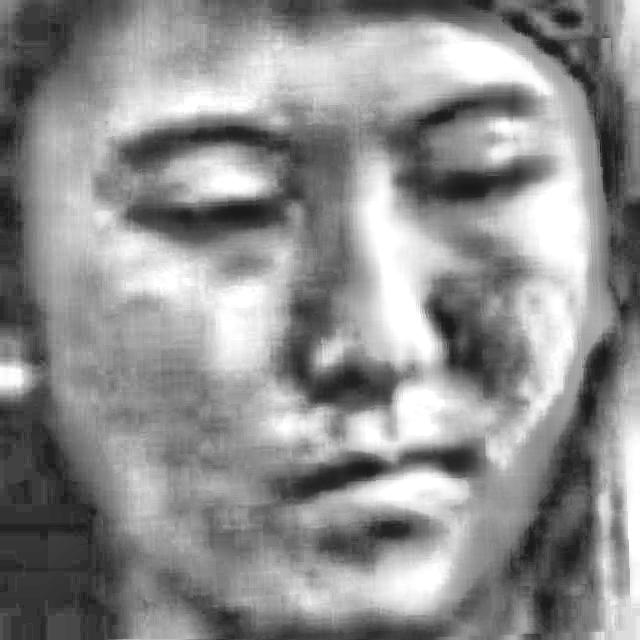angry: (91, 42, 626, 640)
